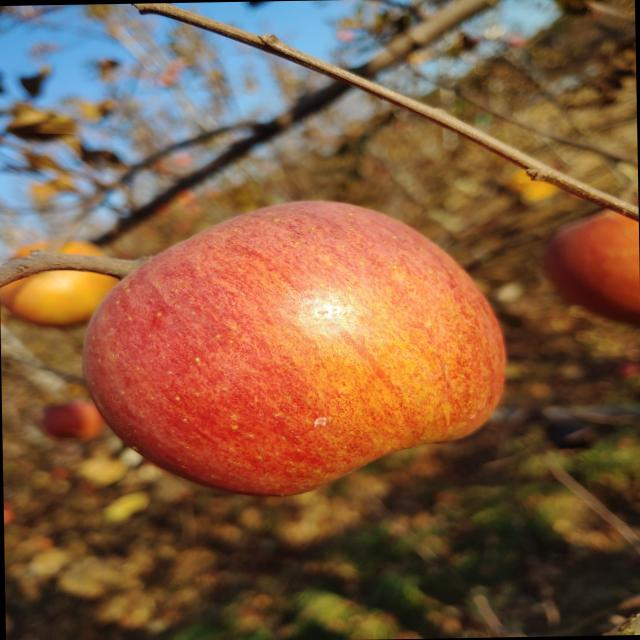fresh: (67, 186, 521, 511)
